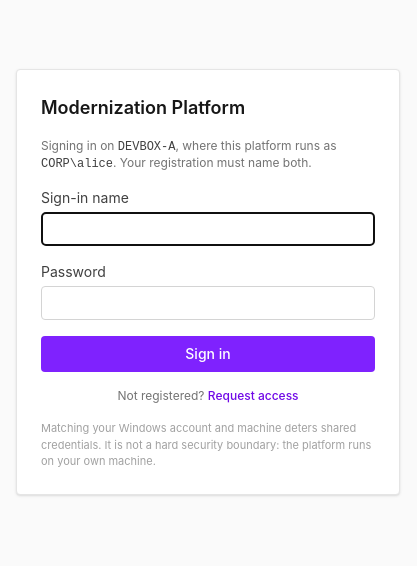
Scenario: SignInPage › someone not registered asks for access, and is told it is pending
Click the button "Request access": x=253, y=396 208,388 -> 298,404
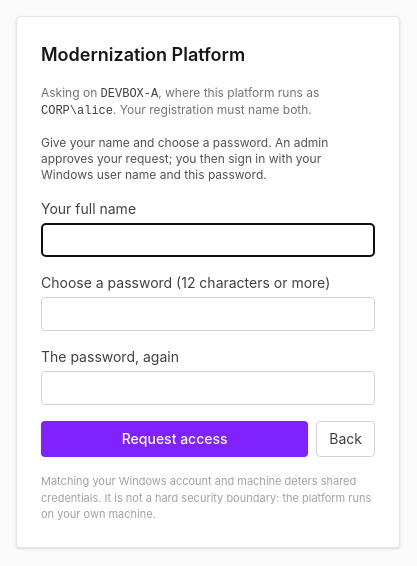
In the field labelled "Your full name": x=208, y=240 41,223 -> 375,257, type "Alice Example"
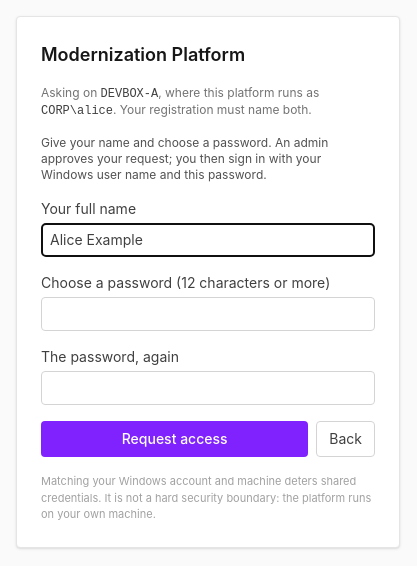
In the password field labelled "Choose a password (12 characters or more)": x=208, y=314 41,297 -> 375,331, type "my-own-long-password"
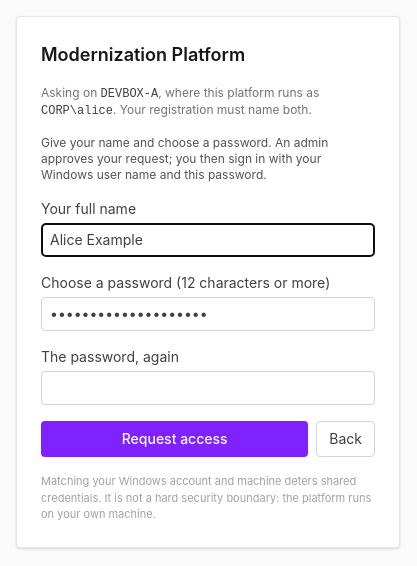
In the password field labelled "The password, again": x=208, y=388 41,371 -> 375,405, type "my-own-long-password"
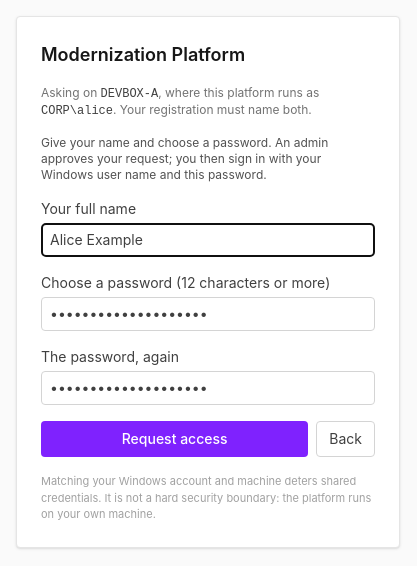
Click the button "Request access": x=175, y=439 41,421 -> 308,457
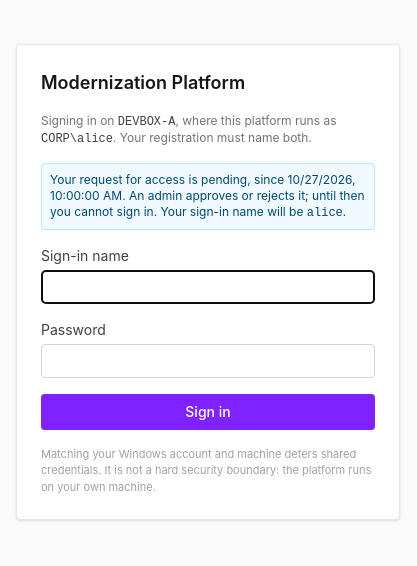
Check: the message shows "Your request for access is pending", box 41,163 -> 375,230
Check: the button "Request access" is gone
